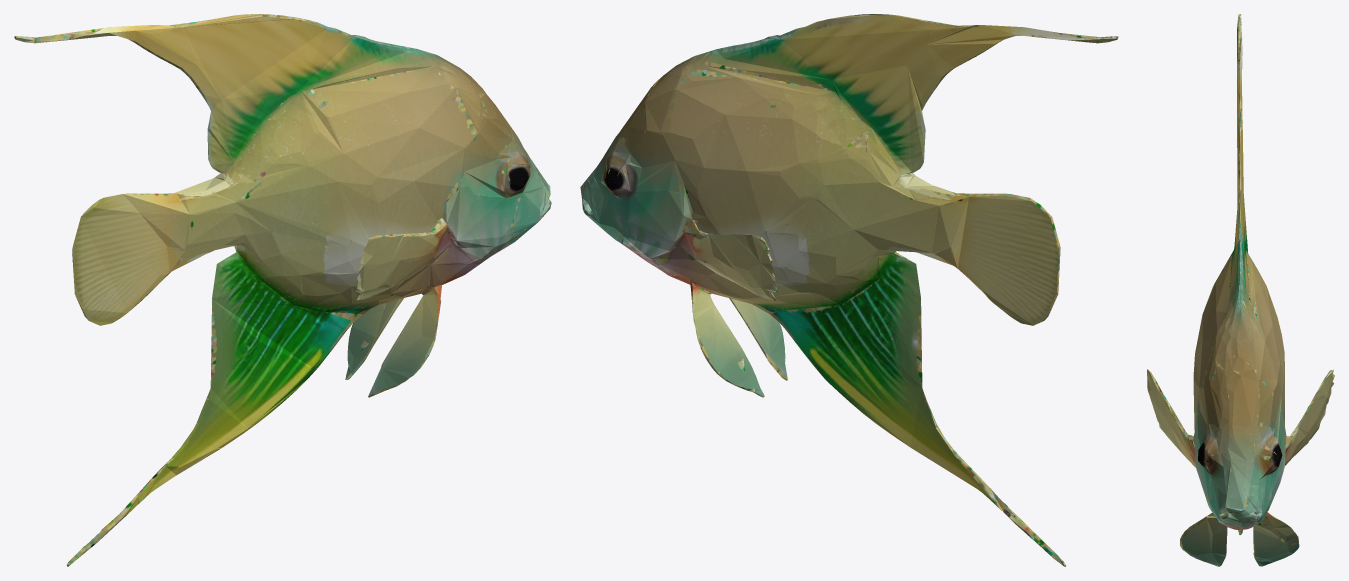
The model's file is fish_0111_smpl23_resized.glb.
3 renders of one model, left to right at view 1: azimuth 30°, elevation 25°; view 2: azimuth 150°, elevation 25°; view 3: azimuth 270°, elevation 25°, orthographic. The views are drawn at different scales.
Parts seen in each view (by area): view 1: world; view 2: world; view 3: world.
Part boxes in pixels (x1,y1,x2,y2): world: (14,14,551,566); world: (580,14,1118,566); world: (1147,14,1334,566).
Size of the model in its own units: 1.99 by 1.93 by 0.6582.
1 material, 1 textured.
